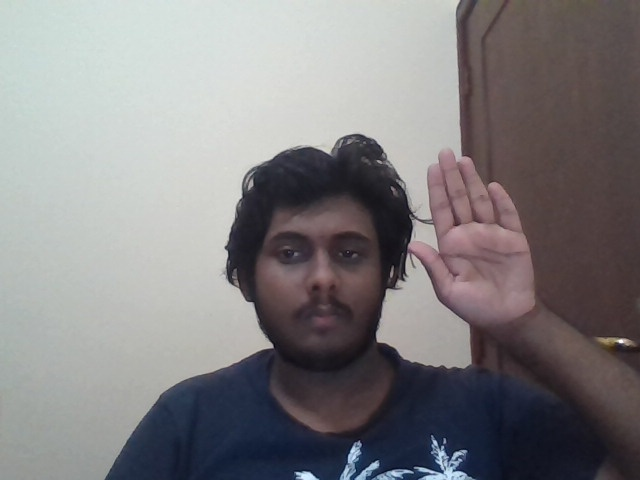hello: (405, 149, 536, 331)
